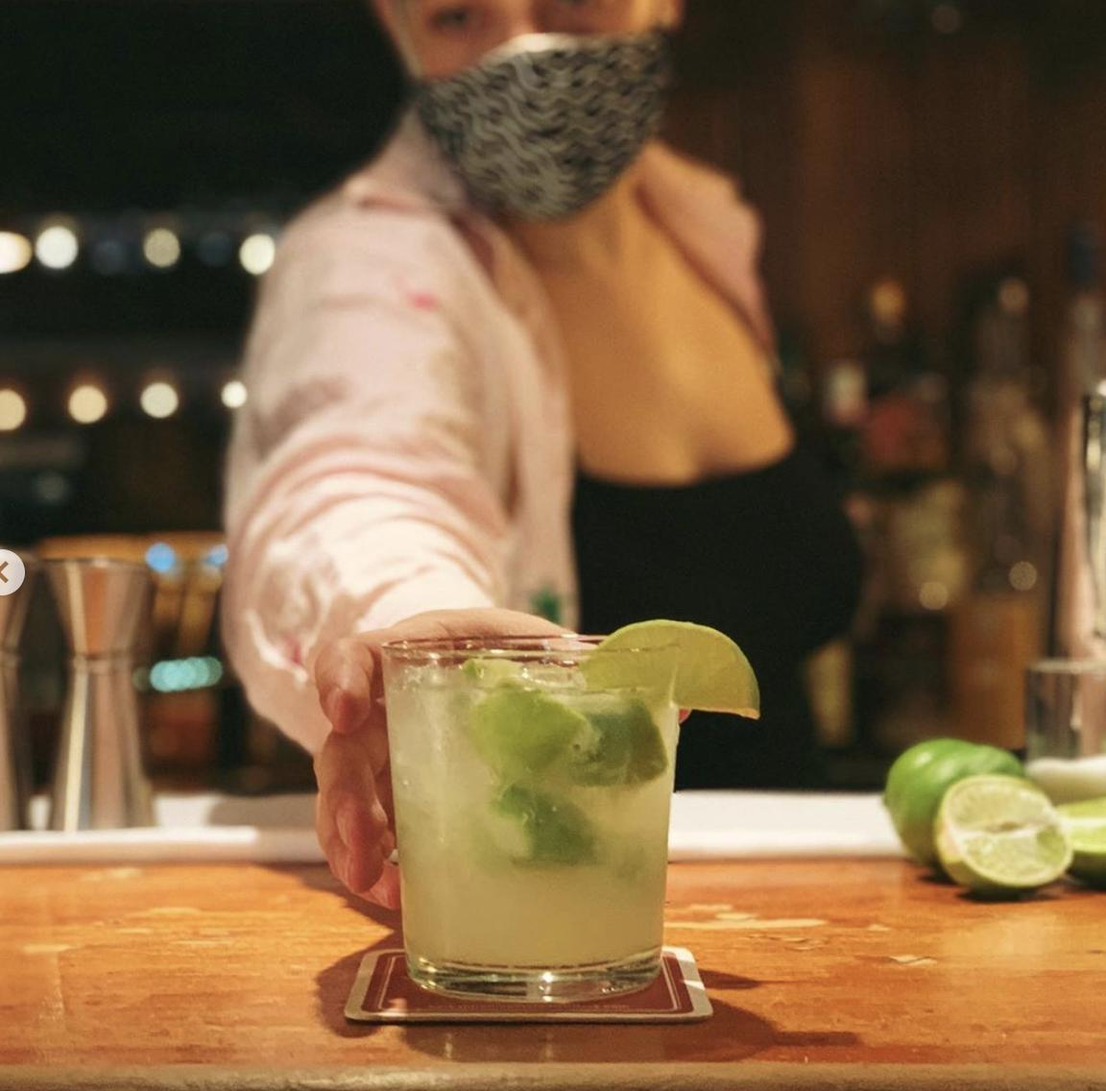glass-normal: (376, 628, 685, 1003)
